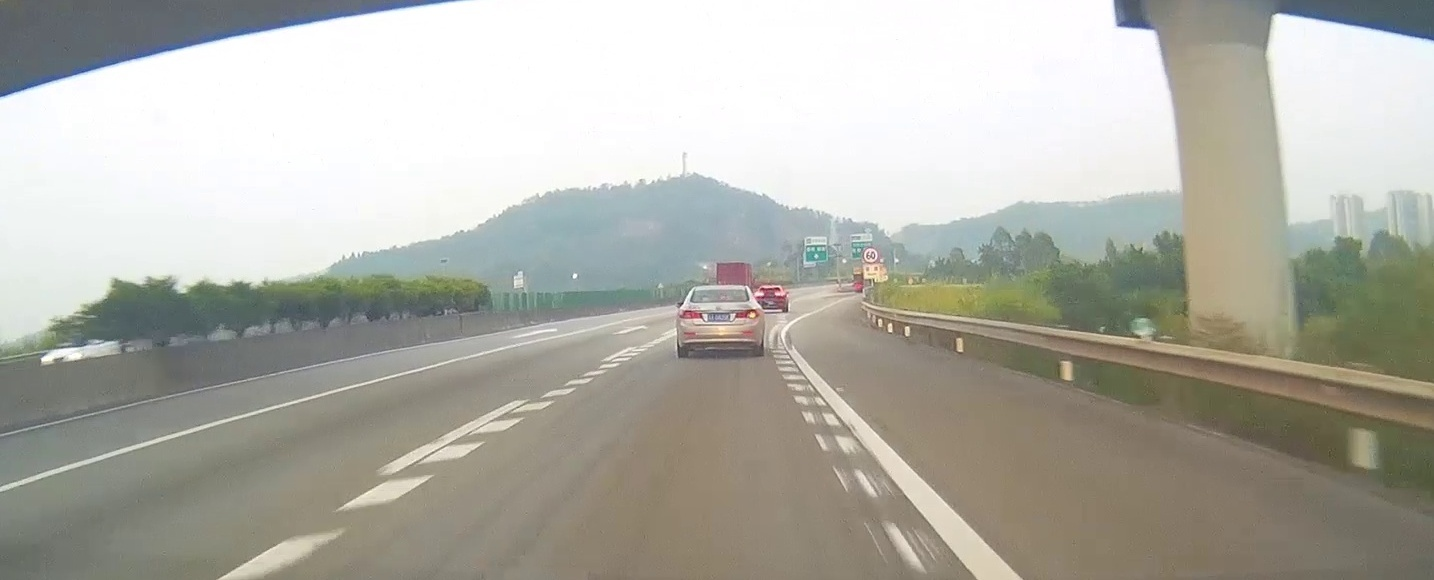L_light: (678, 309, 703, 319)
R_light: (735, 309, 760, 319)
T_light: (712, 300, 725, 302)
day-right: (675, 285, 762, 358)
